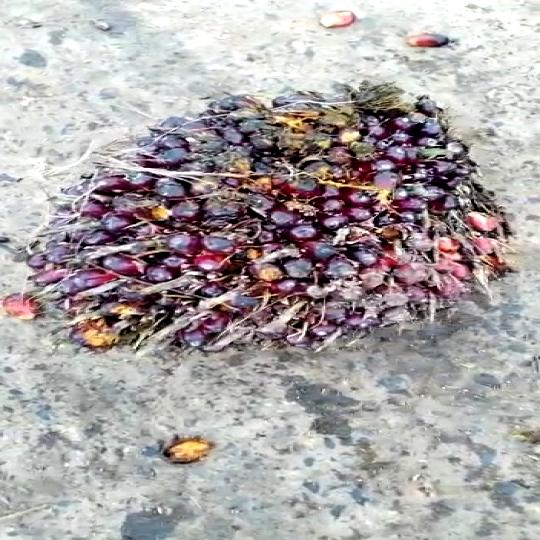masak: (26, 80, 512, 356)
